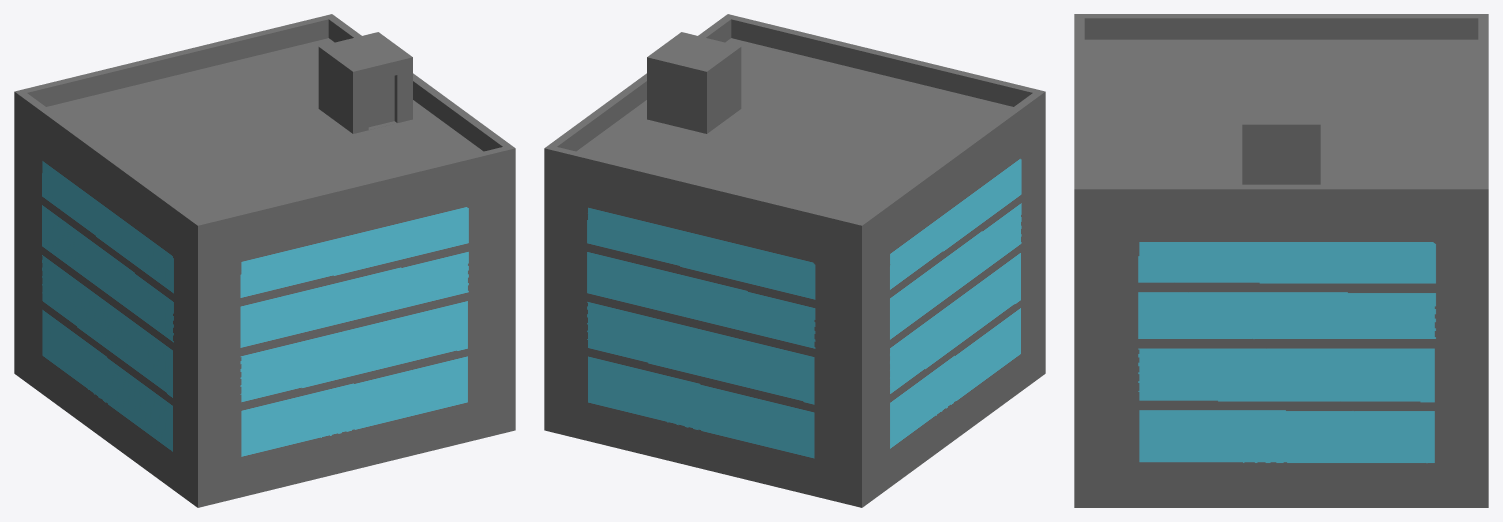
File: building2.glb
3 views of the same model, side by side, from view 1: azimuth 30°, elevation 25°; view 2: azimuth 150°, elevation 25°; view 3: azimuth 270°, elevation 25° (orthographic). The views are drawn at different scales.
Parts seen in each view (by area): view 1: Cube.001; view 2: Cube.001; view 3: Cube.001.
Part boxes in pixels (x1,y1,x2,y2): Cube.001: (14,14,515,507); Cube.001: (544,14,1045,507); Cube.001: (1074,14,1488,507).
Size of the model in its own units: 10.61 by 11.39 by 10.61.
Materials: 1 (1 with a texture image).
